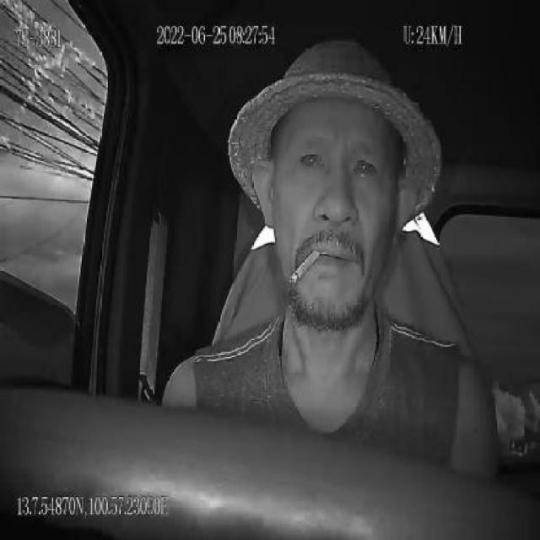smoking: (290, 250, 320, 286)
